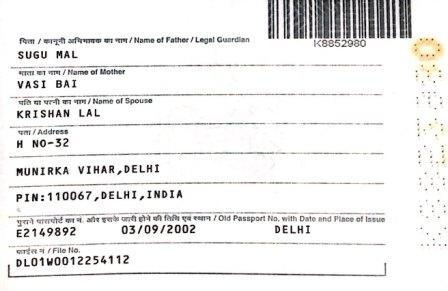File_no: (13, 251, 135, 270)
address: (13, 130, 281, 211)
father_name: (16, 43, 160, 66)
mother_name: (9, 71, 140, 93)
old_passport_details: (12, 222, 333, 241)
passport_no: (311, 36, 371, 51)
spouse_name: (16, 107, 123, 118)
